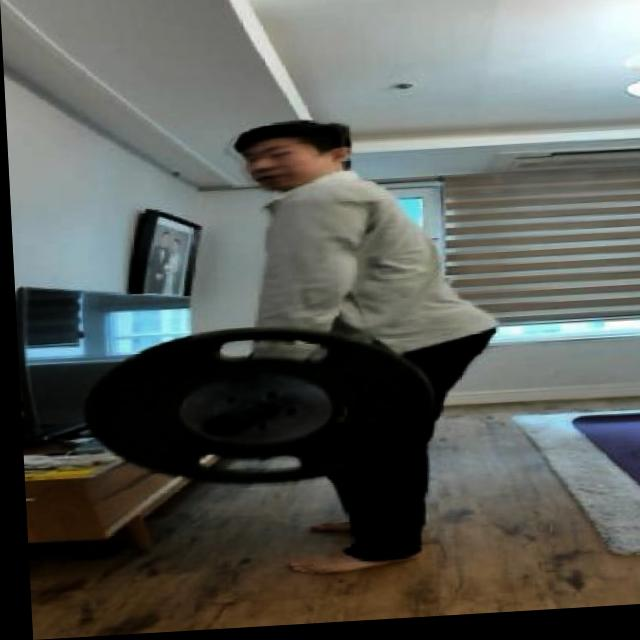barbell: (73, 315, 440, 507)
